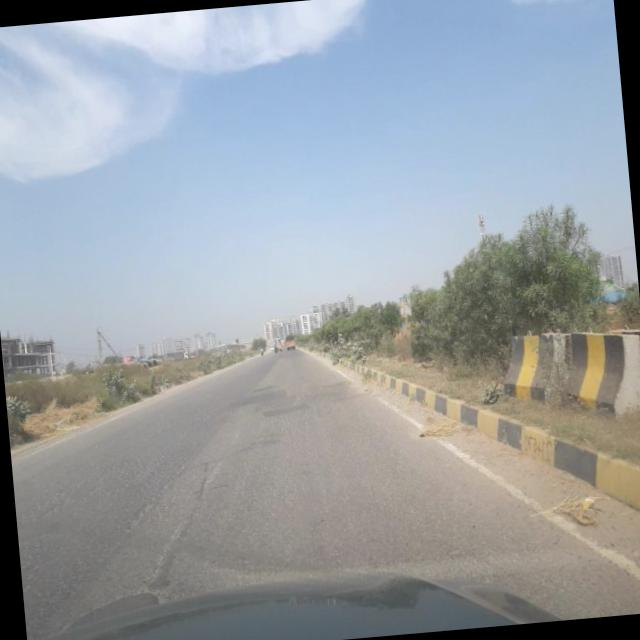crack: (11, 406, 568, 588)
